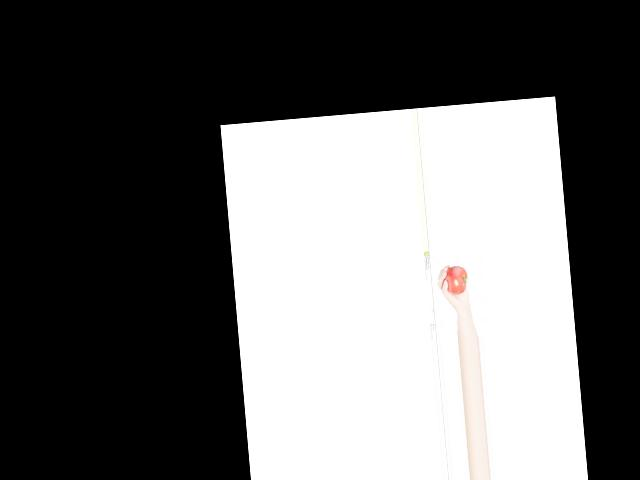tomato: (442, 265, 469, 296)
